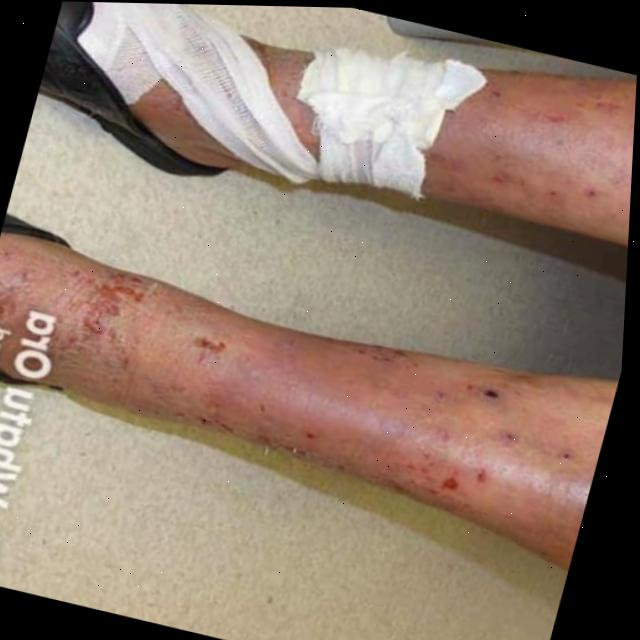Eczema: (34, 272, 611, 463), (502, 85, 636, 212)
